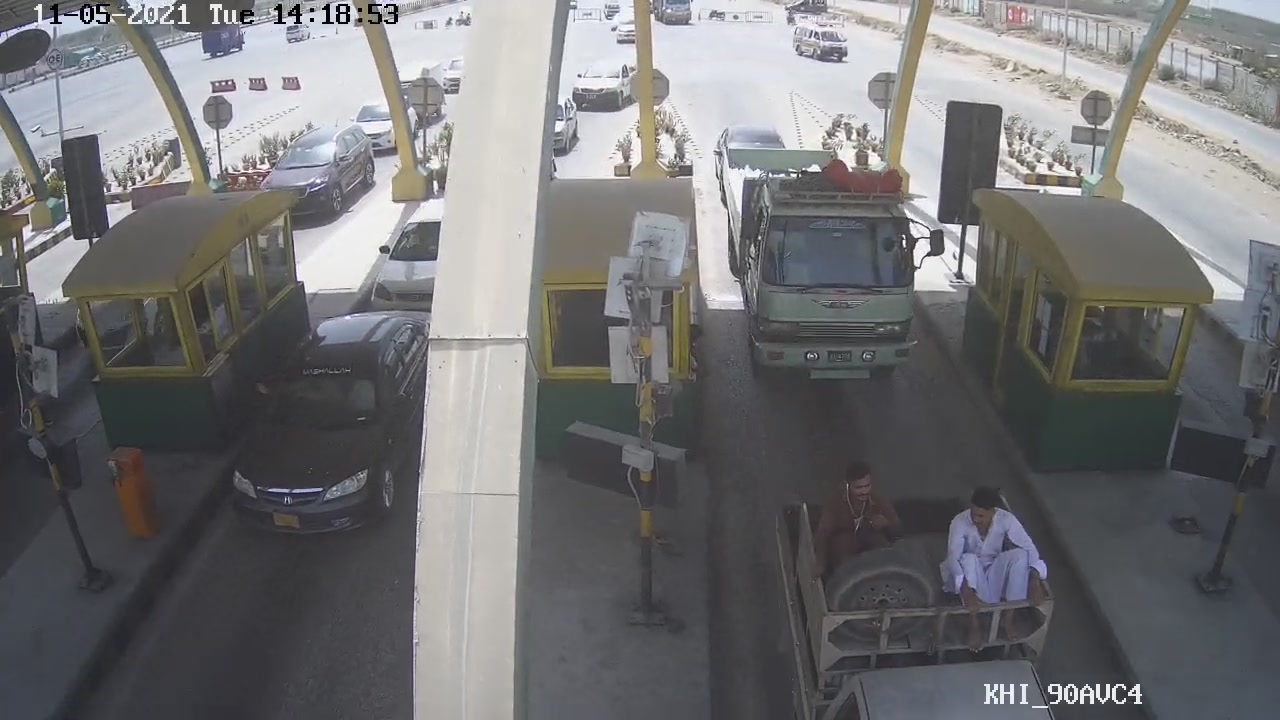F5: (722, 128, 946, 392)
